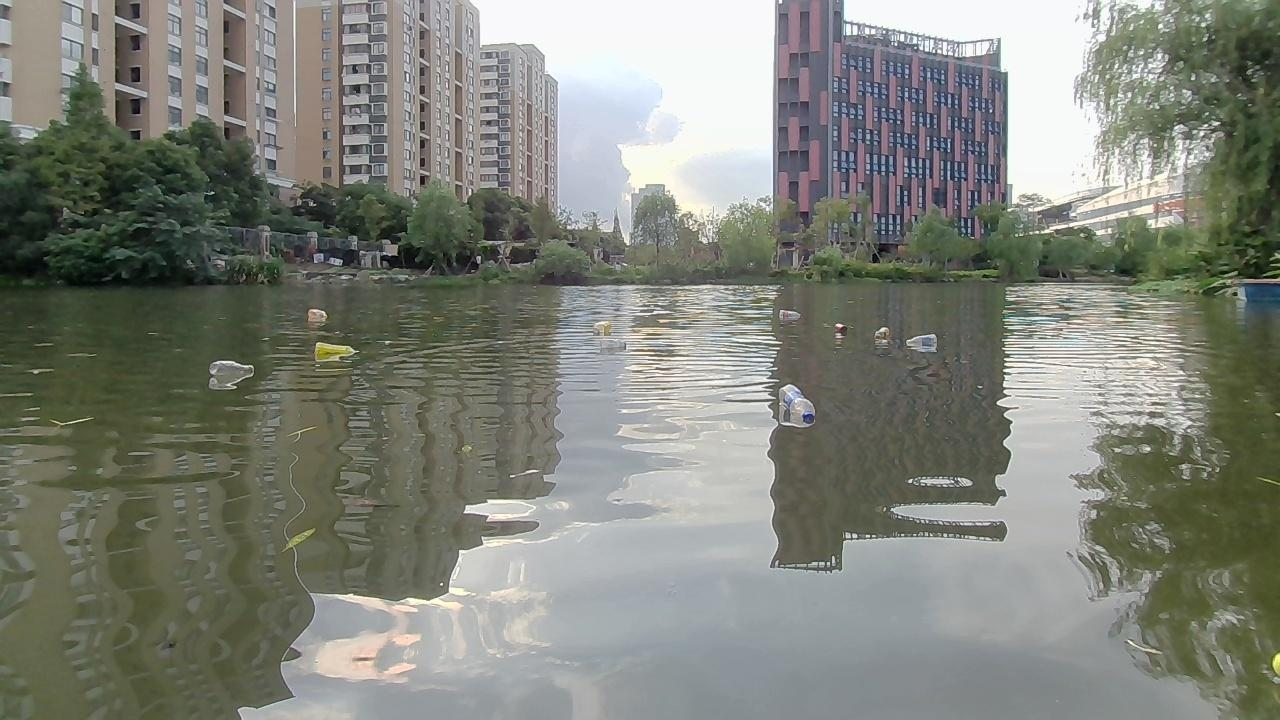bottle: (778, 385, 821, 431), (310, 339, 361, 361), (211, 357, 254, 381), (596, 336, 632, 356), (905, 333, 937, 352), (591, 315, 613, 335), (776, 307, 800, 323), (304, 307, 326, 321), (872, 325, 887, 342), (833, 318, 847, 332)
